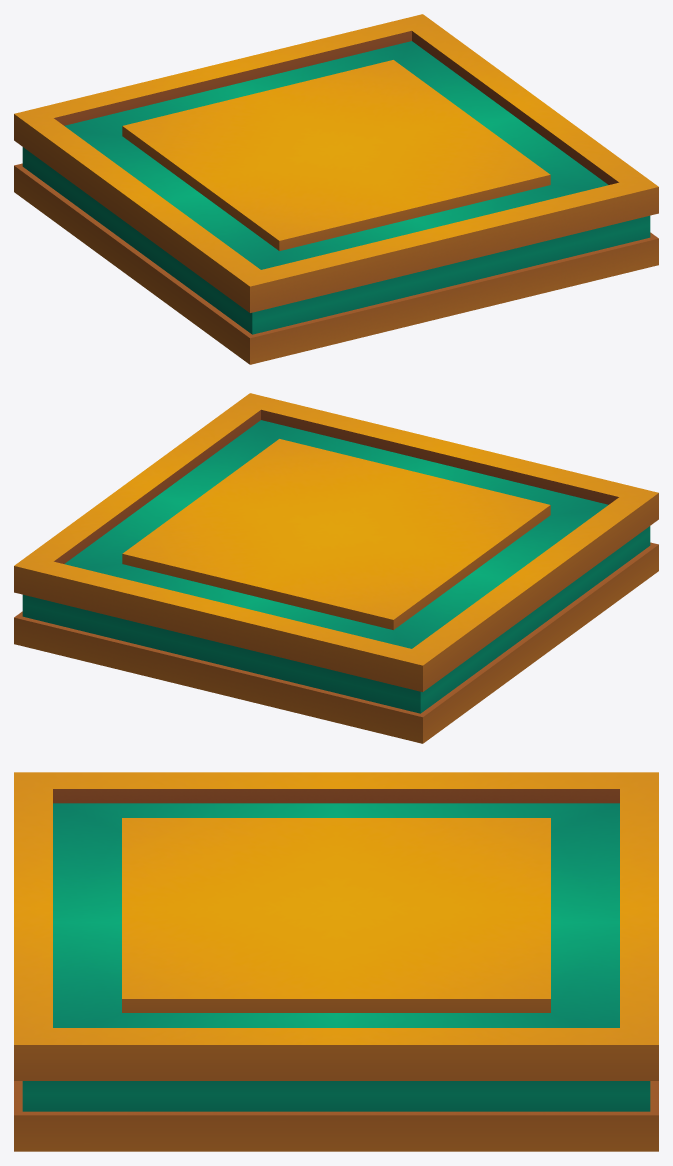
Rendered from MovingPlatform.fbx.
The picture shows the model from 3 angles, top to bottom: view 1: azimuth 30°, elevation 25°; view 2: azimuth 150°, elevation 25°; view 3: azimuth 270°, elevation 25°; orthographic projection. The views are drawn at different scales.
Visible parts, largest first — view 1: Cube; view 2: Cube; view 3: Cube.
Part boxes in pixels (box(x1,y1,x2,y2)): Cube: box(14, 14, 658, 364); Cube: box(14, 393, 658, 743); Cube: box(14, 772, 658, 1151).
Size of the model in its own units: 5.52 by 5.52 by 1.01.
